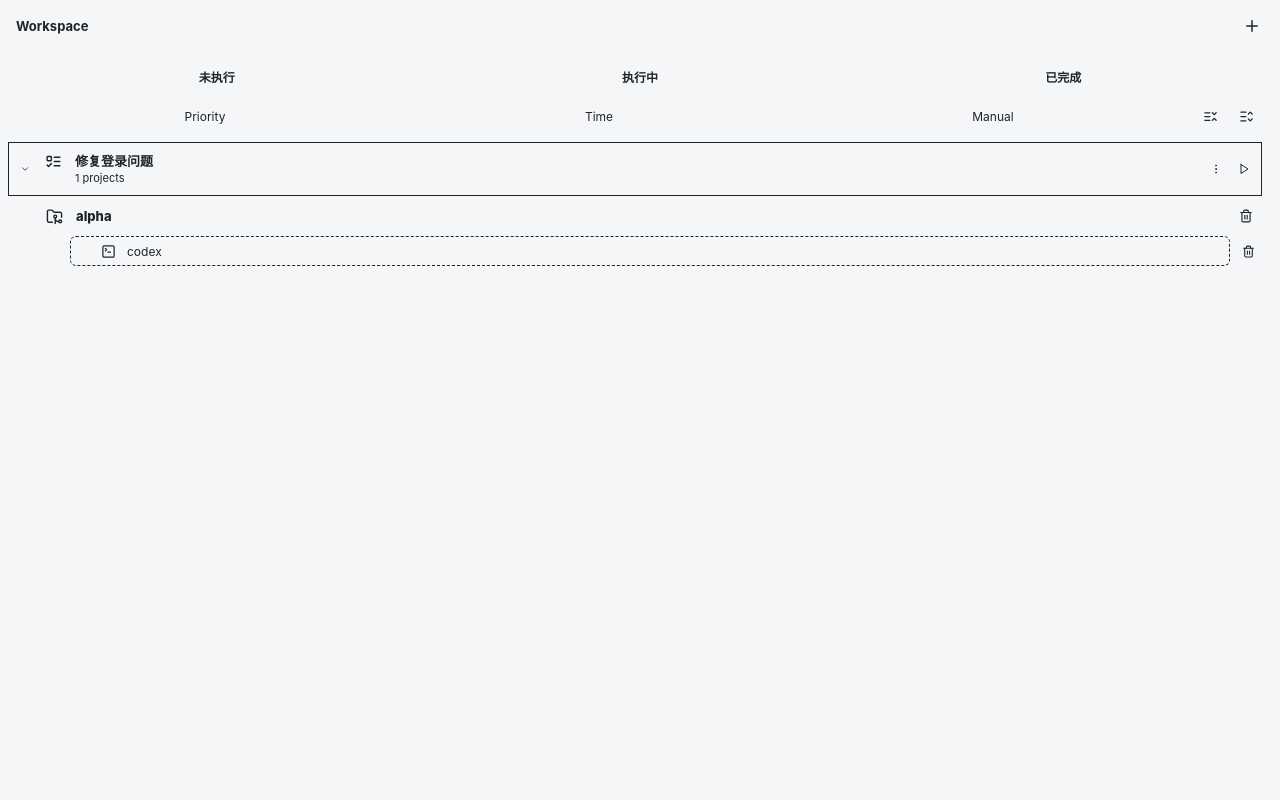
Test: ProjectSidebar › positions the TODO context menu near the right-click point without leaving the viewport
Step 1. Right-click the element with test id "todo-todo-a" → (99, 169), box [45,153,153,185]
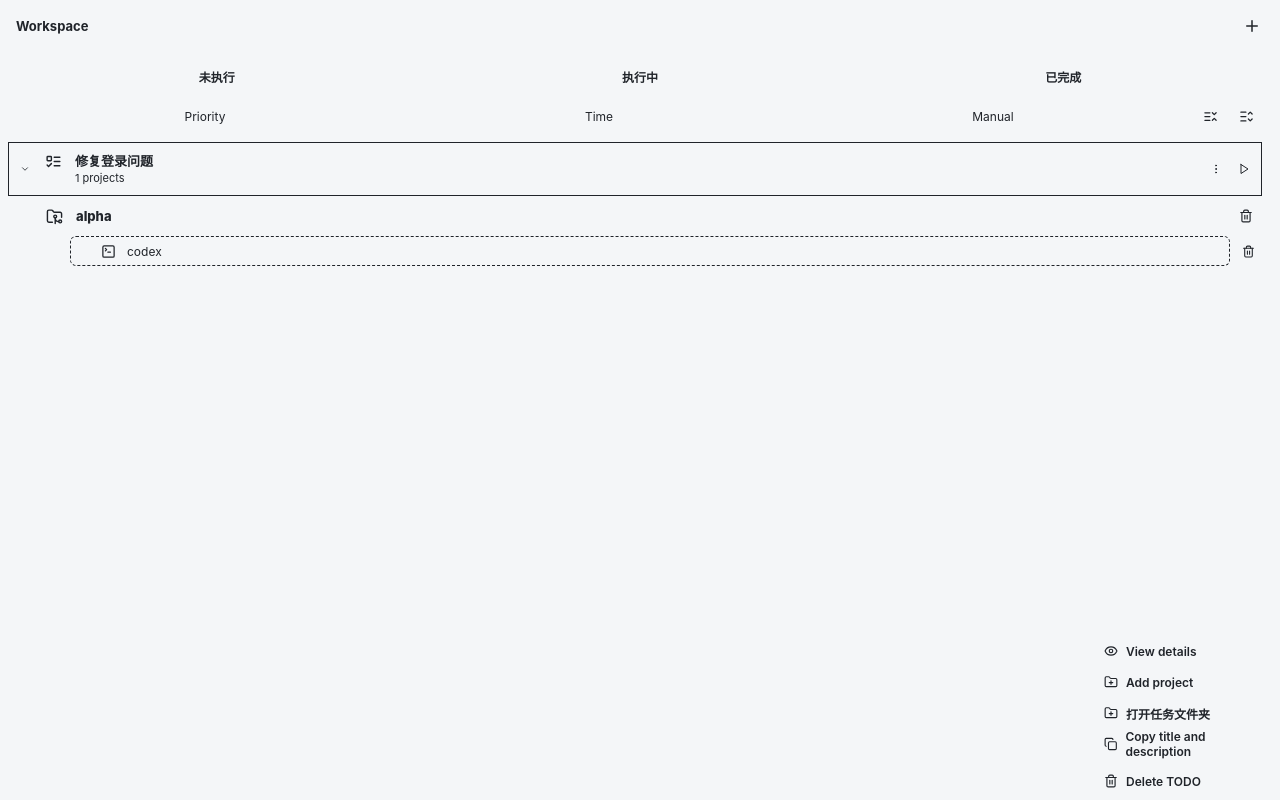
Now the element with test id "todo-context-menu-todo-a" is shown, box [1092,632,1279,799]
